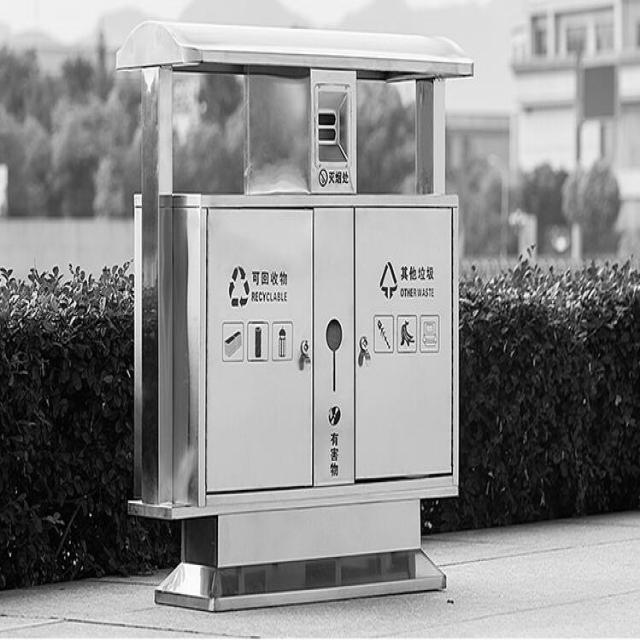ash bin: (113, 13, 473, 611)
